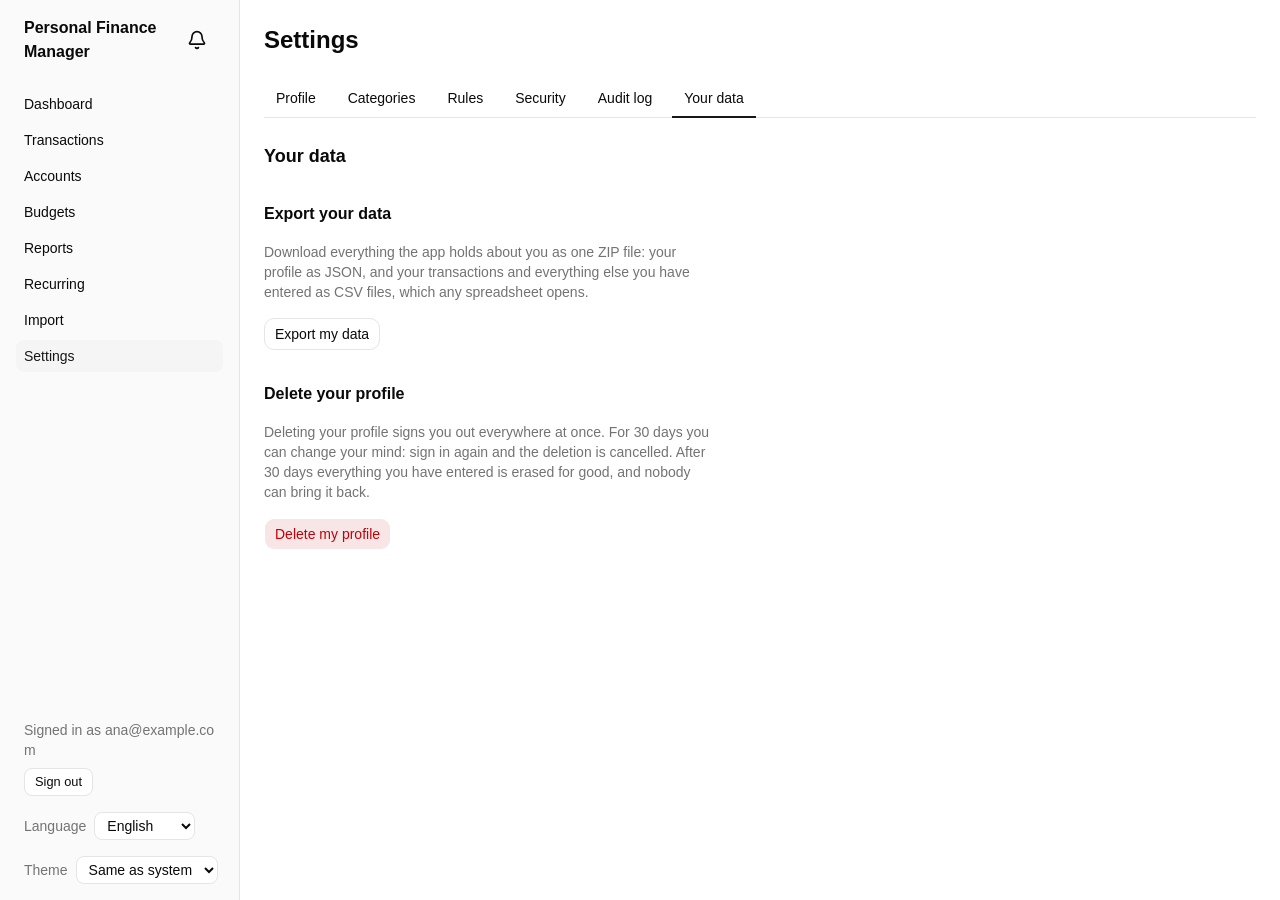
Test: exporting your data › asks before downloading, then saves the ZIP file under the name the API gave it
Click the button "Export my data". click: coordinates (322, 334)
box: [264,318,380,350]
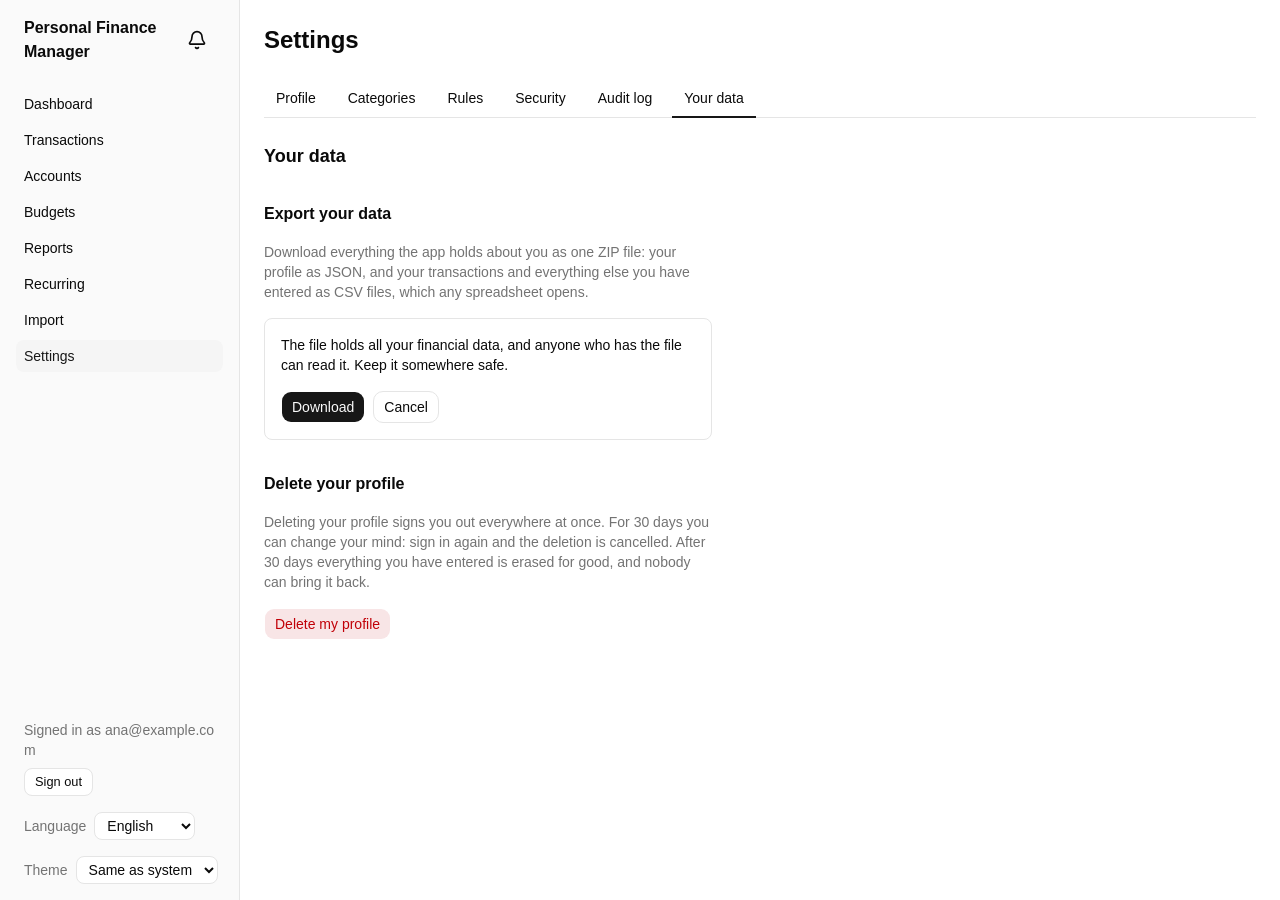
Now the text "The file holds all your financial data" is shown, box [281,337,682,373]
Click the button "Download". click: coordinates (323, 407)
box: [281,391,365,423]
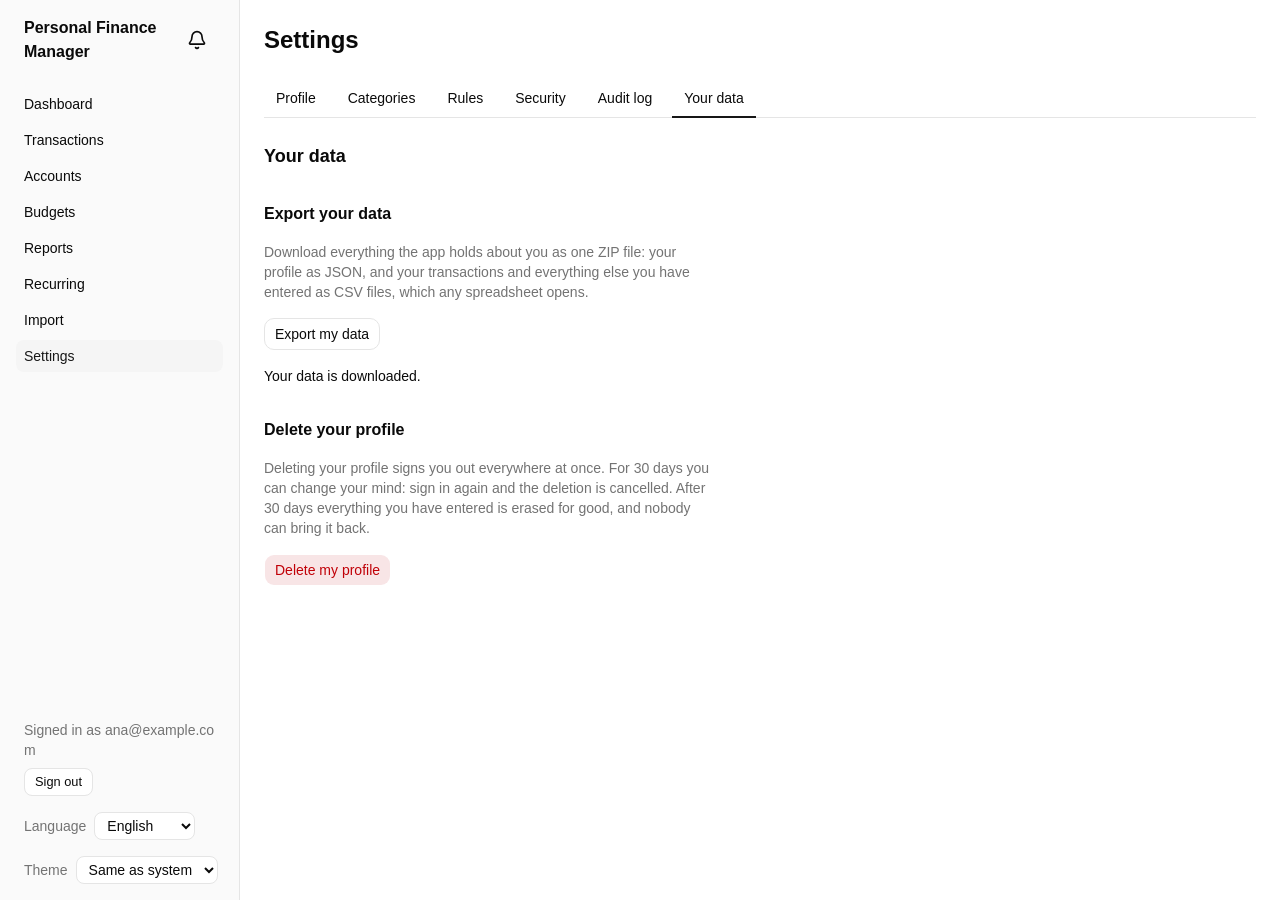
Now the message reads "Your data is downloaded.", box [264,368,421,384]
Now the button "Export my data" is shown, box [264,318,380,350]
